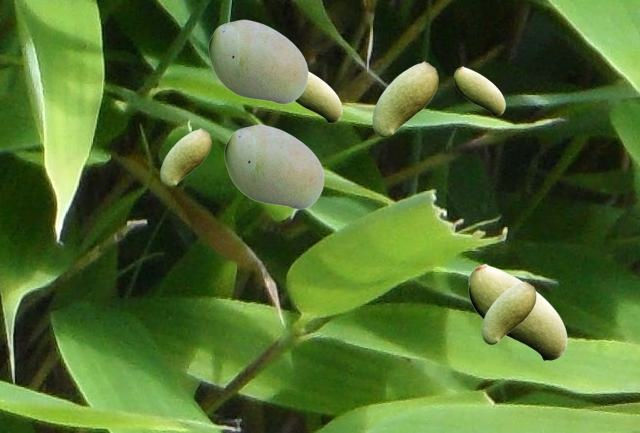green_mango: (468, 263, 566, 360), (224, 124, 323, 208), (208, 19, 307, 103), (372, 61, 437, 136), (481, 281, 535, 343), (160, 128, 210, 186), (454, 66, 504, 115), (295, 71, 341, 122)
